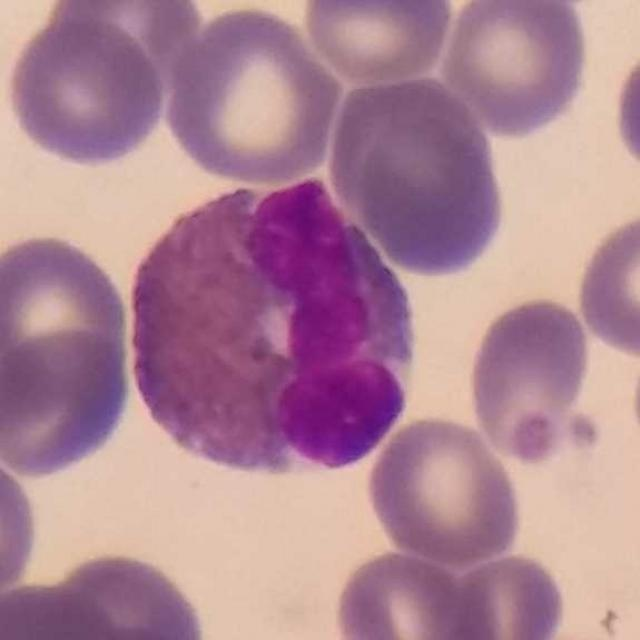Eosinophil: (117, 176, 412, 476)
RBC: (326, 70, 511, 282), (160, 1, 348, 188), (1, 9, 170, 171), (363, 411, 525, 568), (0, 226, 135, 408), (462, 292, 595, 468), (438, 0, 594, 139), (0, 323, 137, 481), (31, 546, 212, 640), (328, 546, 501, 640), (38, 3, 210, 97), (298, 0, 456, 86), (438, 548, 571, 640), (571, 204, 640, 360), (0, 579, 126, 640), (0, 440, 43, 613), (607, 33, 640, 187)
